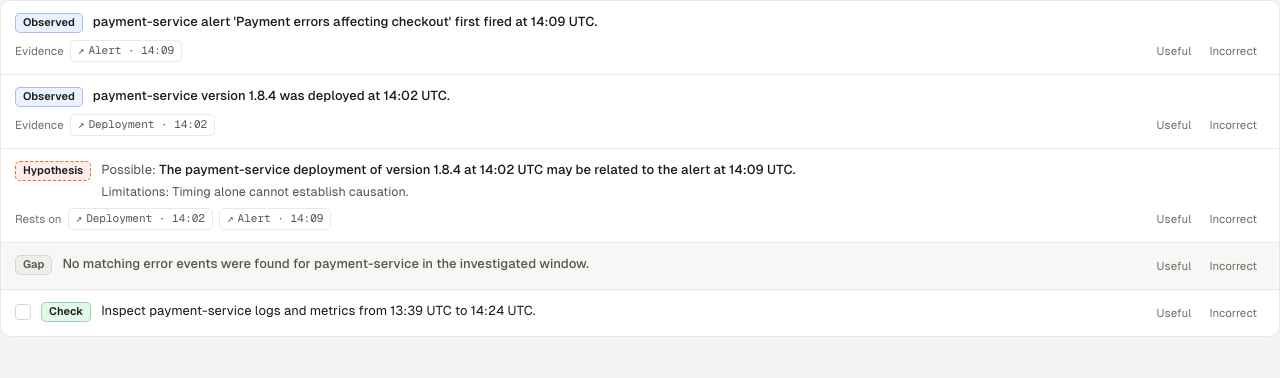
Findings › feedback › rolls back and says so when saving fails
This screenshot has width=1280, height=378.
Step 1. Click the 1st button "Incorrect" → click(1233, 51), box [1201,40,1265,62]
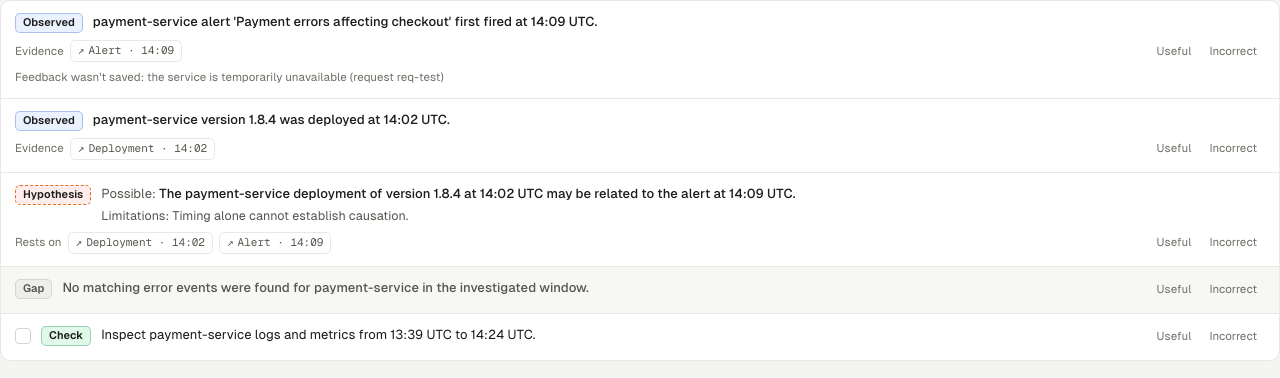
Result: the message shows "Feedback wasn't saved" at [15,70,444,84]
